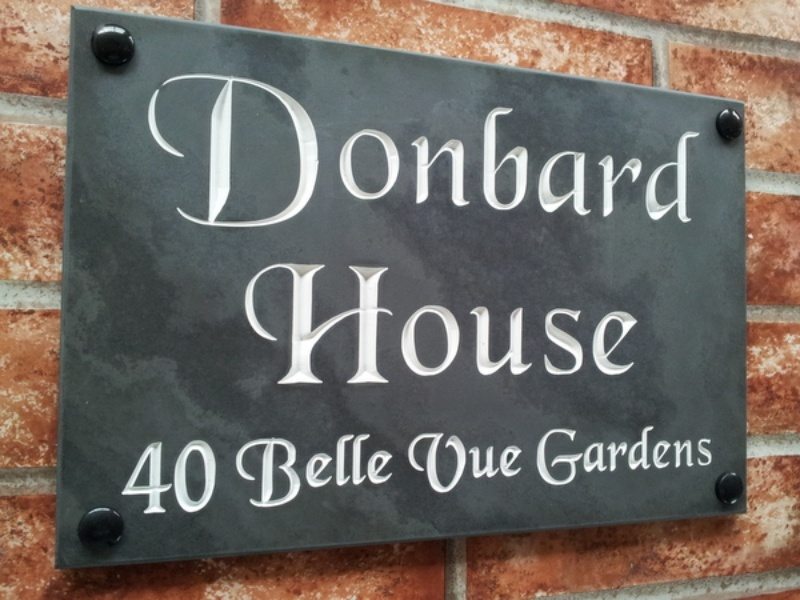text: (161, 66, 176, 235), (177, 66, 192, 235), (193, 66, 208, 235), (209, 66, 224, 235), (225, 66, 240, 235), (241, 66, 256, 235), (257, 66, 272, 235), (273, 66, 288, 235), (289, 66, 304, 235), (305, 66, 320, 235), (321, 66, 336, 235), (337, 66, 352, 235), (353, 66, 368, 235), (369, 66, 384, 235), (385, 66, 400, 235), (401, 66, 416, 235), (417, 66, 432, 235), (433, 66, 448, 235), (449, 66, 464, 235), (465, 66, 480, 235), (481, 66, 496, 235), (497, 66, 512, 235), (513, 66, 528, 235), (529, 66, 544, 235), (545, 66, 560, 235), (561, 66, 576, 235), (577, 66, 592, 235), (593, 66, 608, 235), (609, 66, 624, 235), (625, 66, 640, 235), (641, 66, 656, 235), (657, 66, 672, 235), (673, 66, 688, 235), (689, 66, 704, 235), (146, 66, 160, 235), (257, 259, 272, 387), (273, 259, 288, 387), (289, 259, 304, 387), (305, 259, 320, 387), (321, 259, 336, 387), (337, 259, 352, 387), (353, 259, 368, 387), (369, 259, 384, 387), (385, 259, 400, 387), (401, 259, 416, 387), (417, 259, 432, 387), (433, 259, 448, 387), (449, 259, 464, 387), (465, 259, 480, 387), (481, 259, 496, 387), (497, 259, 512, 387), (513, 259, 528, 387), (529, 259, 544, 387), (545, 259, 560, 387), (561, 259, 576, 387), (577, 259, 592, 387), (593, 259, 608, 387), (609, 259, 624, 387), (625, 259, 640, 387), (245, 259, 256, 387), (209, 437, 225, 518), (129, 437, 144, 518), (145, 437, 160, 518), (161, 437, 176, 518), (177, 437, 192, 518), (193, 437, 208, 518), (241, 431, 256, 511), (257, 431, 272, 511), (273, 431, 288, 511), (289, 431, 304, 511), (305, 431, 320, 511), (321, 431, 336, 511), (337, 431, 352, 511), (353, 431, 368, 511), (369, 431, 384, 511), (385, 431, 398, 511), (641, 259, 649, 387), (417, 429, 432, 497), (433, 429, 448, 497), (449, 429, 464, 497), (465, 429, 480, 497), (481, 429, 496, 497), (497, 429, 512, 497), (545, 423, 560, 489), (561, 423, 576, 489), (577, 423, 592, 489), (593, 423, 608, 489), (609, 423, 624, 489), (625, 423, 640, 489), (641, 423, 656, 489), (657, 423, 672, 489), (673, 423, 688, 489), (689, 423, 704, 489), (513, 429, 525, 497), (534, 423, 544, 489), (705, 423, 715, 489), (122, 437, 128, 518), (409, 429, 416, 497), (237, 431, 240, 511), (705, 66, 706, 235)
